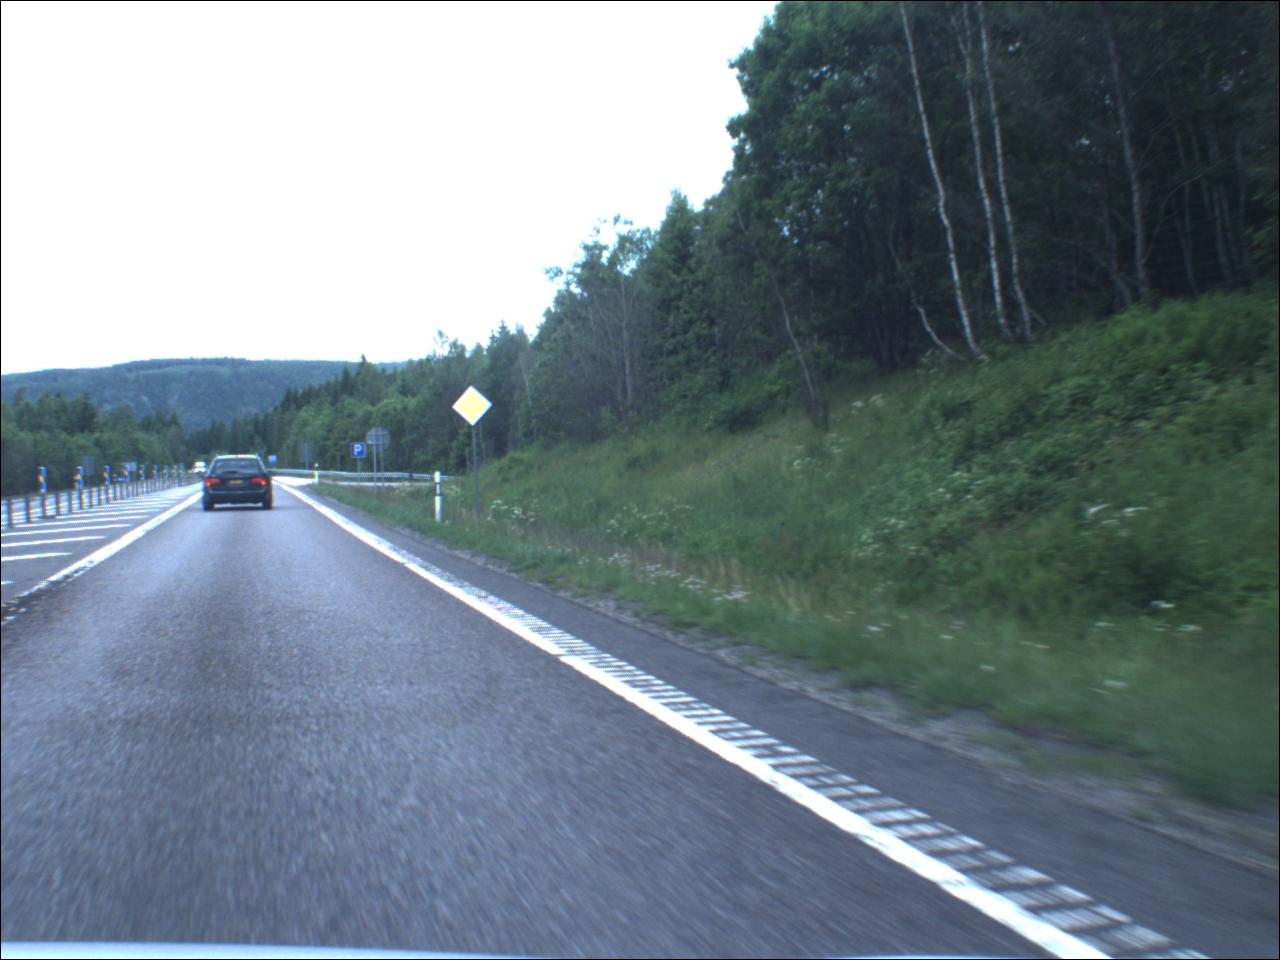PRIORITY_ROAD: (454, 385, 499, 431)
